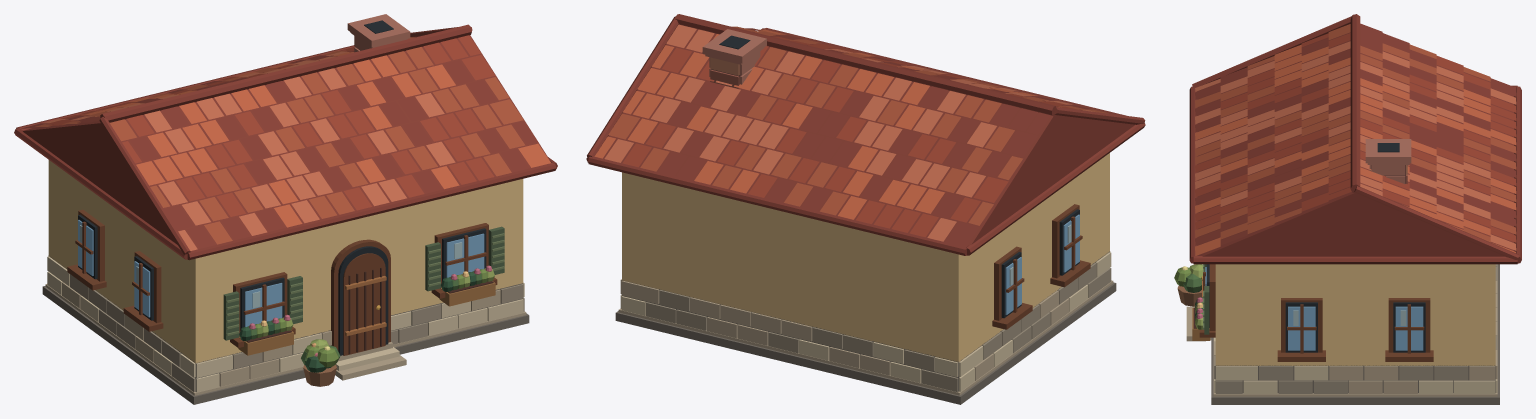
File: moradia-nivel-2.glb
3 renders of one model, left to right at view 1: azimuth 30°, elevation 25°; view 2: azimuth 150°, elevation 25°; view 3: azimuth 270°, elevation 25°, orthographic. The views are drawn at different scales.
Visible parts, largest first — view 1: Moradia 02 #853e33, Moradia 02 #dfbd85, Moradia 02 #a8563c, Moradia 02 #9b4735, Moradia 02 #c06b4f, Moradia 02 #70432c, Moradia 02 #bf6243, Moradia 02 #cebea0, Moradia 02 #b4a38a, Moradia 02 #746c62, Moradia 02 #9b8f7c, Moradia 02 #252c32 (+9 smaller); view 2: Moradia 02 #dfbd85, Moradia 02 #853e33, Moradia 02 #c06b4f, Moradia 02 #9b4735, Moradia 02 #bf6243, Moradia 02 #a8563c, Moradia 02 #b4a38a, Moradia 02 #9b8f7c, Moradia 02 #746c62, Moradia 02 #cebea0, Moradia 02 #70432c, Moradia 02 #ac6f5e (+2 smaller); view 3: Moradia 02 #853e33, Moradia 02 #dfbd85, Moradia 02 #c06b4f, Moradia 02 #9b4735, Moradia 02 #a8563c, Moradia 02 #bf6243, Moradia 02 #746c62, Moradia 02 #b4a38a, Moradia 02 #70432c, Moradia 02 #9b8f7c, Moradia 02 #cebea0, Moradia 02 #567185 (+2 smaller).
Part boxes in pixels (<box>): Moradia 02 #853e33: <box>14,24,557,260</box>; Moradia 02 #dfbd85: <box>48,160,523,363</box>; Moradia 02 #a8563c: <box>35,47,525,244</box>; Moradia 02 #9b4735: <box>47,35,495,216</box>; Moradia 02 #c06b4f: <box>43,51,455,250</box>; Moradia 02 #70432c: <box>67,209,497,355</box>; Moradia 02 #bf6243: <box>81,37,550,227</box>; Moradia 02 #cebea0: <box>47,255,524,392</box>; Moradia 02 #b4a38a: <box>45,282,526,395</box>; Moradia 02 #746c62: <box>42,256,529,404</box>; Moradia 02 #9b8f7c: <box>70,274,524,391</box>; Moradia 02 #252c32: <box>78,20,486,355</box>; Moradia 02 #dfbd85: <box>622,153,1109,362</box>; Moradia 02 #853e33: <box>586,14,1145,255</box>; Moradia 02 #c06b4f: <box>604,24,1094,241</box>; Moradia 02 #9b4735: <box>622,36,1080,237</box>; Moradia 02 #bf6243: <box>594,29,1061,219</box>; Moradia 02 #a8563c: <box>608,26,1108,225</box>; Moradia 02 #b4a38a: <box>618,279,1113,395</box>; Moradia 02 #9b8f7c: <box>645,263,1111,392</box>; Moradia 02 #746c62: <box>615,251,1116,404</box>; Moradia 02 #cebea0: <box>620,251,1111,391</box>; Moradia 02 #70432c: <box>992,204,1090,329</box>; Moradia 02 #ac6f5e: <box>702,29,766,84</box>; Moradia 02 #853e33: <box>1189,14,1521,264</box>; Moradia 02 #dfbd85: <box>1215,264,1495,365</box>; Moradia 02 #c06b4f: <box>1195,41,1516,250</box>; Moradia 02 #9b4735: <box>1195,33,1516,242</box>; Moradia 02 #a8563c: <box>1195,24,1516,242</box>; Moradia 02 #bf6243: <box>1195,44,1516,255</box>; Moradia 02 #746c62: <box>1211,264,1499,404</box>; Moradia 02 #b4a38a: <box>1186,264,1497,396</box>; Moradia 02 #70432c: <box>1199,264,1433,361</box>; Moradia 02 #9b8f7c: <box>1214,264,1497,393</box>; Moradia 02 #cebea0: <box>1210,337,1497,393</box>; Moradia 02 #567185: <box>1205,267,1423,350</box>.
Bounding box in the file's own units: 7.49 × 4.64 × 6.33.
